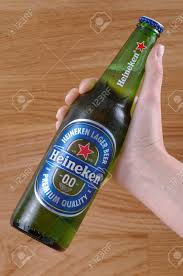beer: (11, 15, 163, 253)
